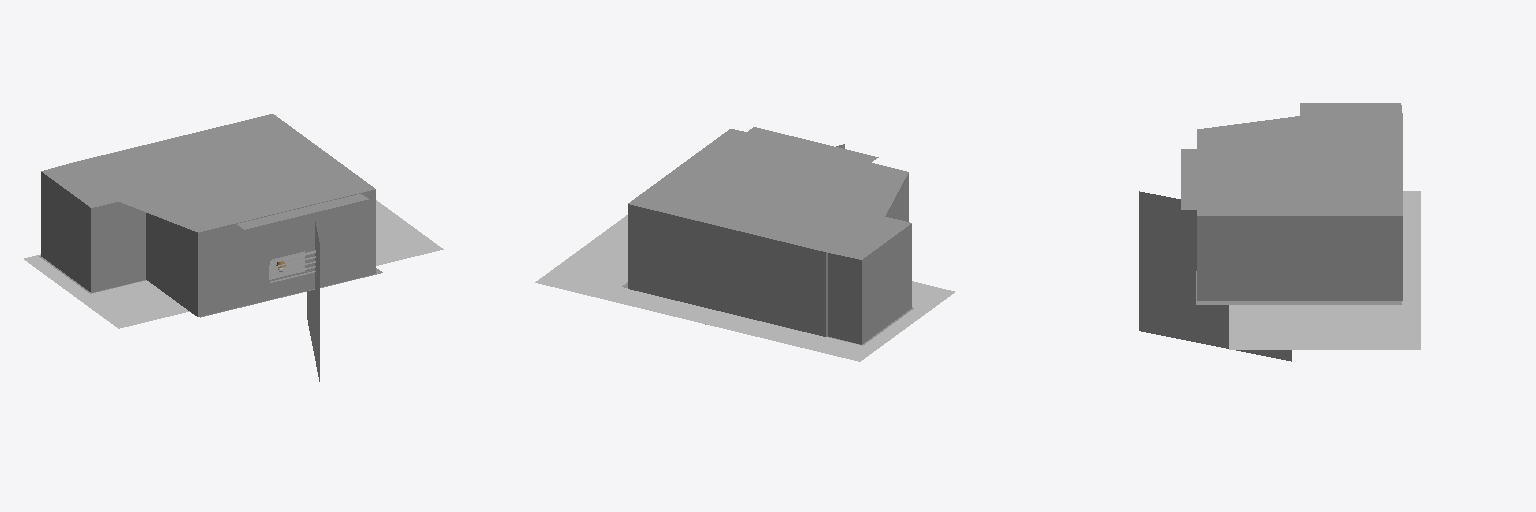
The model's file is chair2.obj.
3 views of the same model, side by side, from view 1: azimuth 30°, elevation 25°; view 2: azimuth 150°, elevation 25°; view 3: azimuth 270°, elevation 25° (orthographic).
Parts seen in each view (by area): view 1: Room_Room.001, Plane, Plane.004, Plane.002_Plane.001; view 2: Room_Room.001, Plane, Plane.002_Plane.001; view 3: Room_Room.001, Plane, Plane.004, Plane.002_Plane.001.
Part boxes in pixels (left/top/right/bottom): Room_Room.001: left=39, top=114, right=382, bottom=317; Plane: left=24, top=200, right=443, bottom=328; Plane.004: left=307, top=222, right=319, bottom=381; Plane.002_Plane.001: left=237, top=194, right=368, bottom=229; Room_Room.001: left=622, top=129, right=913, bottom=345; Plane: left=535, top=215, right=954, bottom=361; Plane.002_Plane.001: left=748, top=127, right=878, bottom=162; Room_Room.001: left=1196, top=103, right=1402, bottom=304; Plane: left=1229, top=191, right=1420, bottom=349; Plane.004: left=1139, top=191, right=1291, bottom=361; Plane.002_Plane.001: left=1181, top=149, right=1196, bottom=209.
Bounding box in the file's own units: 56.6 × 25.93 × 42.53.